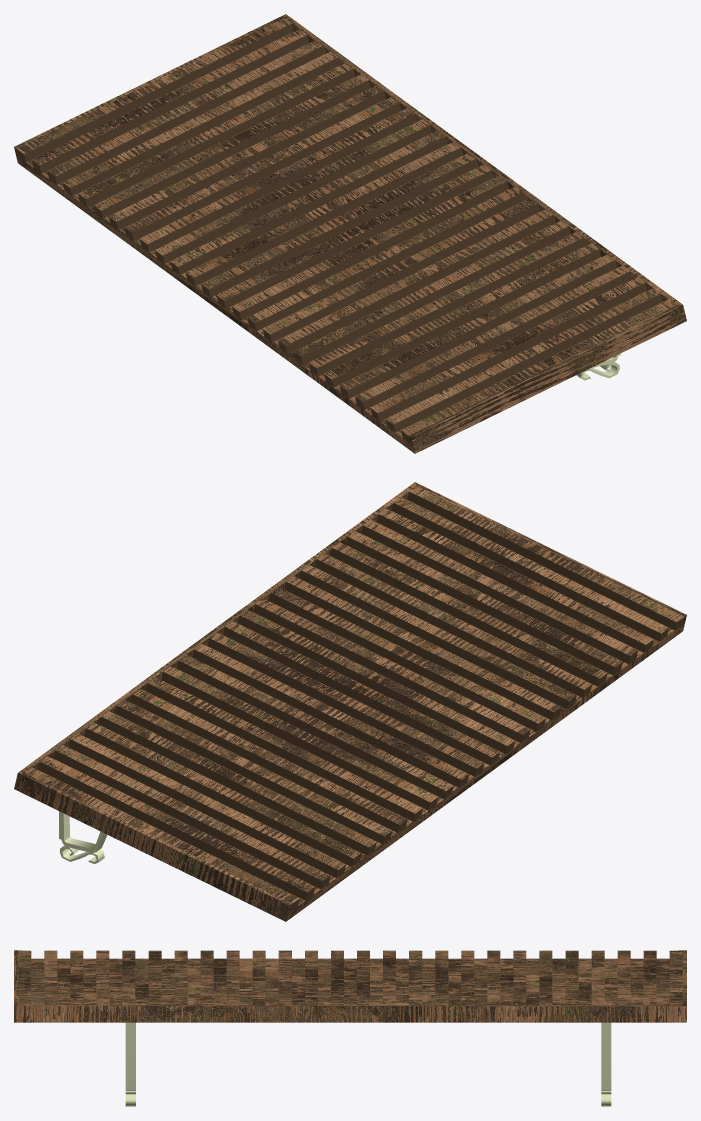
File: m_hangingDoor.fbx
The picture shows the model from 3 angles, top to bottom: view 1: azimuth 30°, elevation 25°; view 2: azimuth 150°, elevation 25°; view 3: azimuth 270°, elevation 25°; orthographic projection. The views are drawn at different scales.
Visible parts, largest first — view 1: pCube352; view 2: pCube352; view 3: pCube352.
Boxes of the visible parts, x1,y1,x2,y2 form: pCube352: (14,14,686,453); pCube352: (14,482,686,921); pCube352: (14,950,686,1106).
Bounding box in the file's own units: 583 × 242 × 1453.
